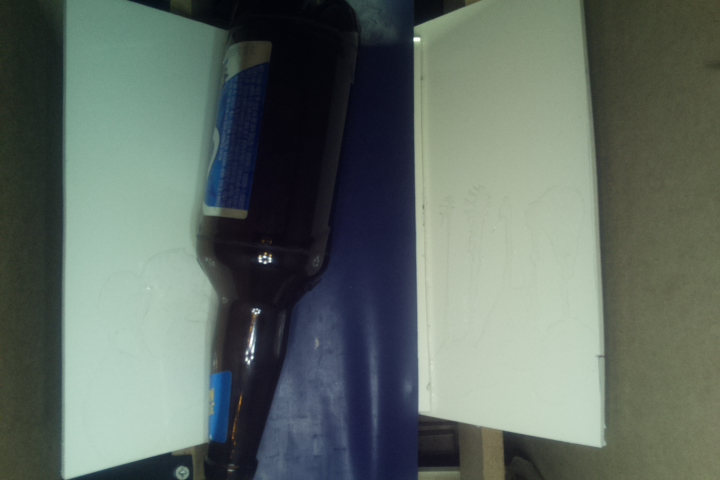makju: (196, 1, 362, 477)
